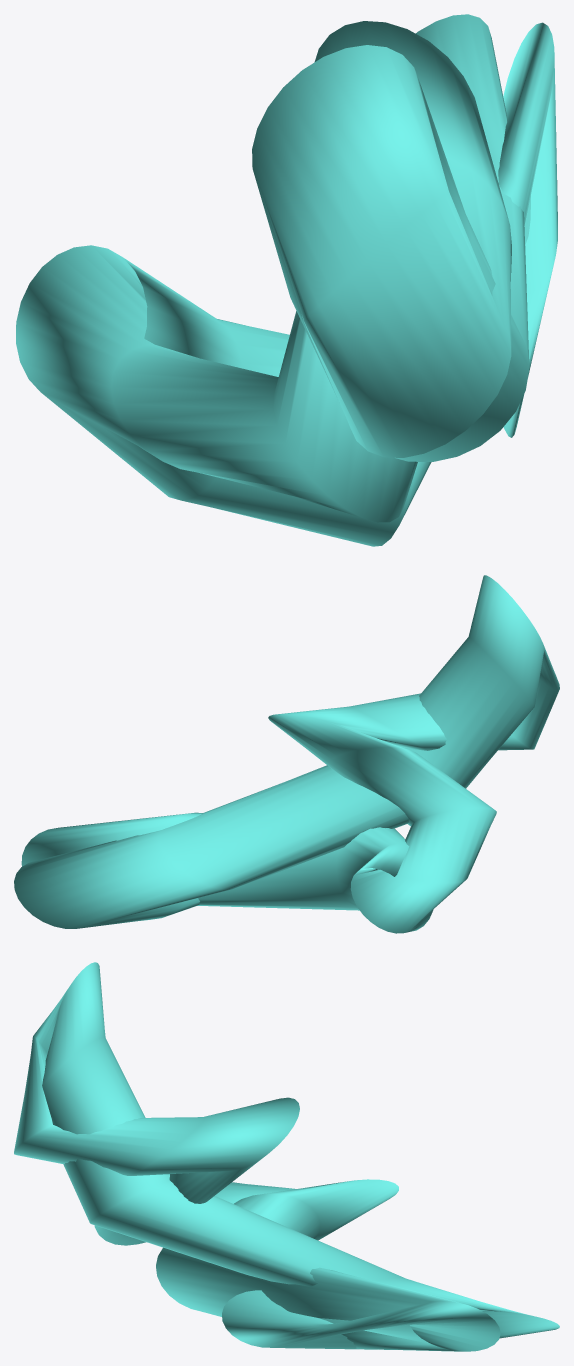
3 views of the same model, one above another, from view 1: azimuth 30°, elevation 25°; view 2: azimuth 150°, elevation 25°; view 3: azimuth 270°, elevation 25° (orthographic). The views are drawn at different scales.
Visible parts, largest first — view 1: WE_CE; view 2: WE_CE; view 3: WE_CE.
Part boxes in pixels (bbox=[...]): WE_CE: bbox=[16, 14, 557, 546]; WE_CE: bbox=[14, 575, 559, 933]; WE_CE: bbox=[14, 962, 559, 1351].
Bounding box in the file's own units: 6.78 × 5.93 × 9.24.
